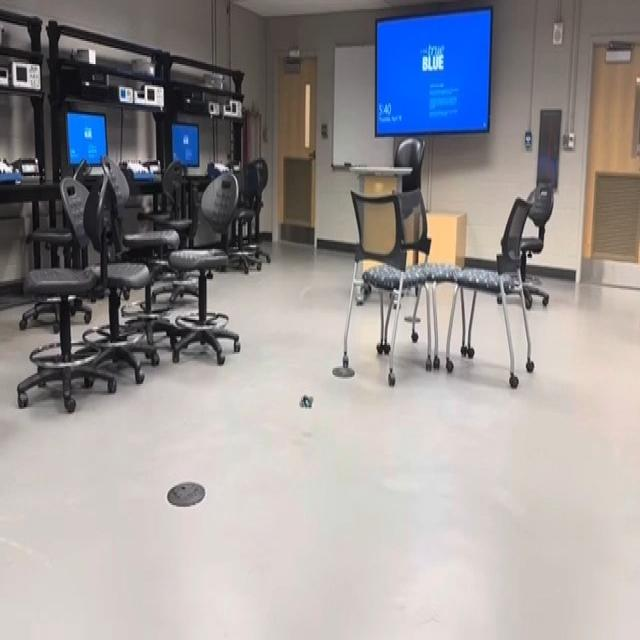drone: (294, 374, 317, 430)
